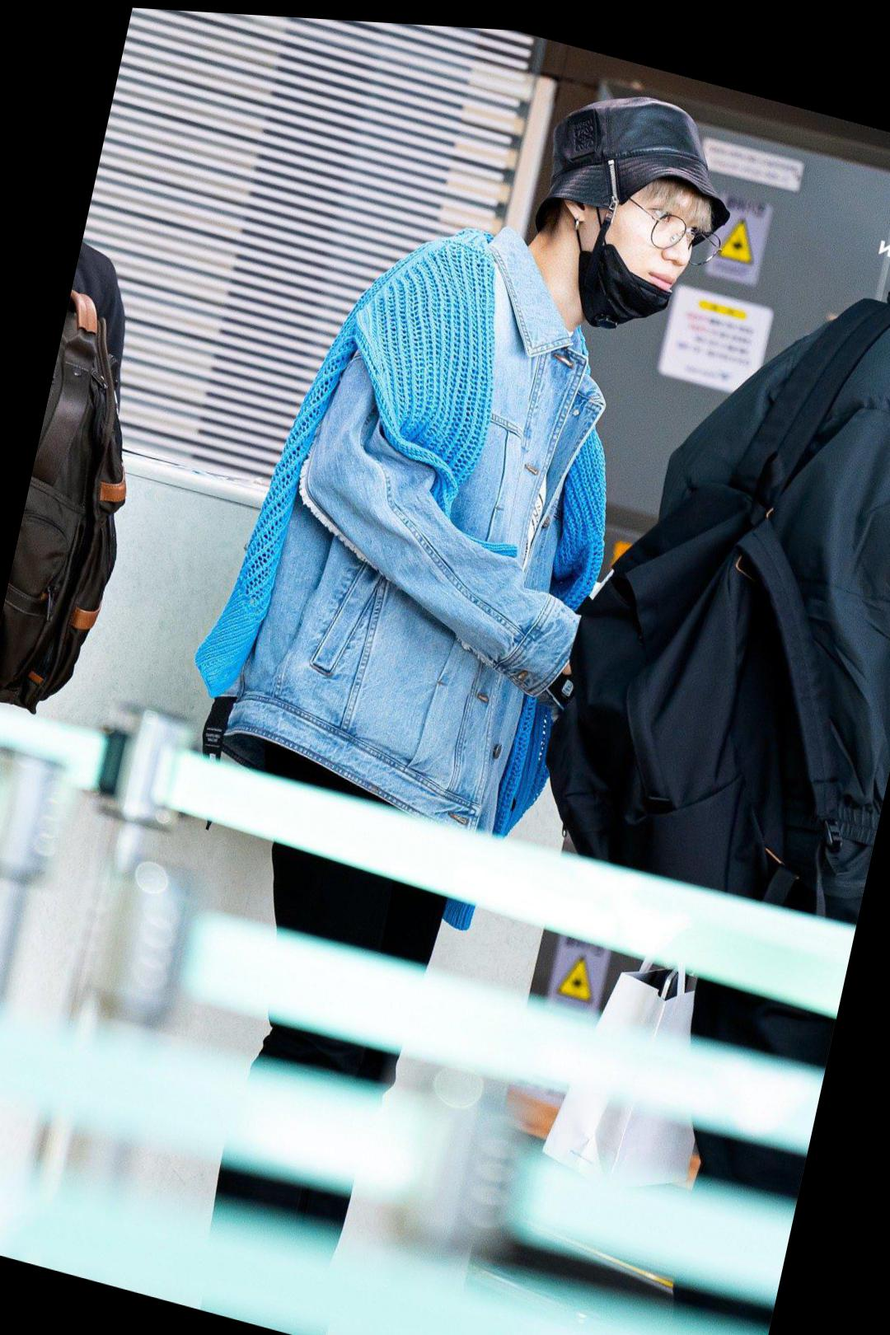WRONG: (607, 162, 711, 319)
